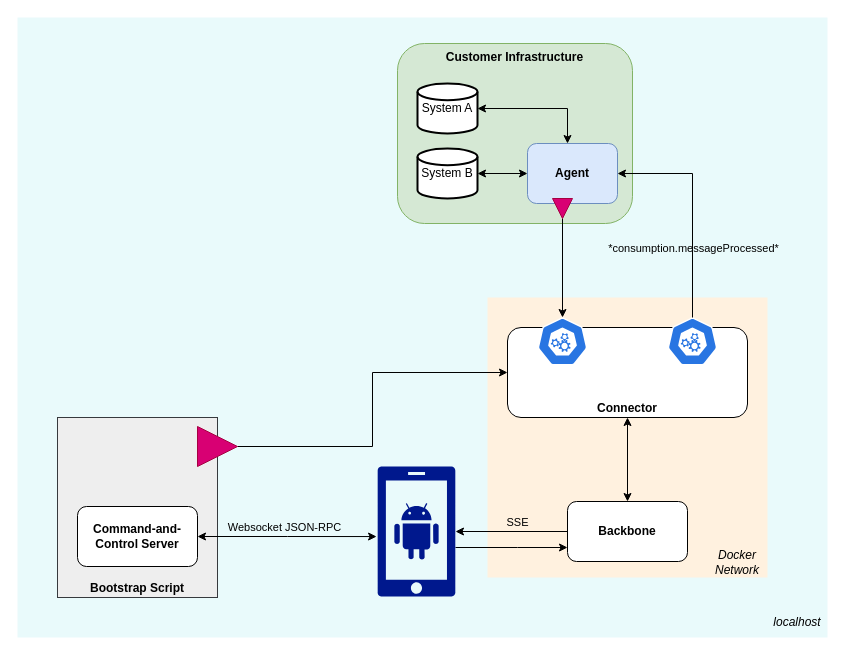
Some shapes in this 844 by 654 pixel diagram are drawn without their labels. Here are the shapes that lost their labels. From the top down, the centre of each, then its label:
At point 562,341: "Connector API".
At point 692,341: "Webhooks".
At point 217,446: "Connector SDK".
At point 416,531: "Enmeshed App".
